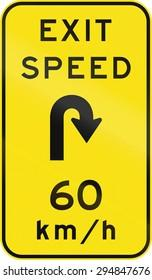Right Hair Pin Bend: (28, 96, 124, 166)
